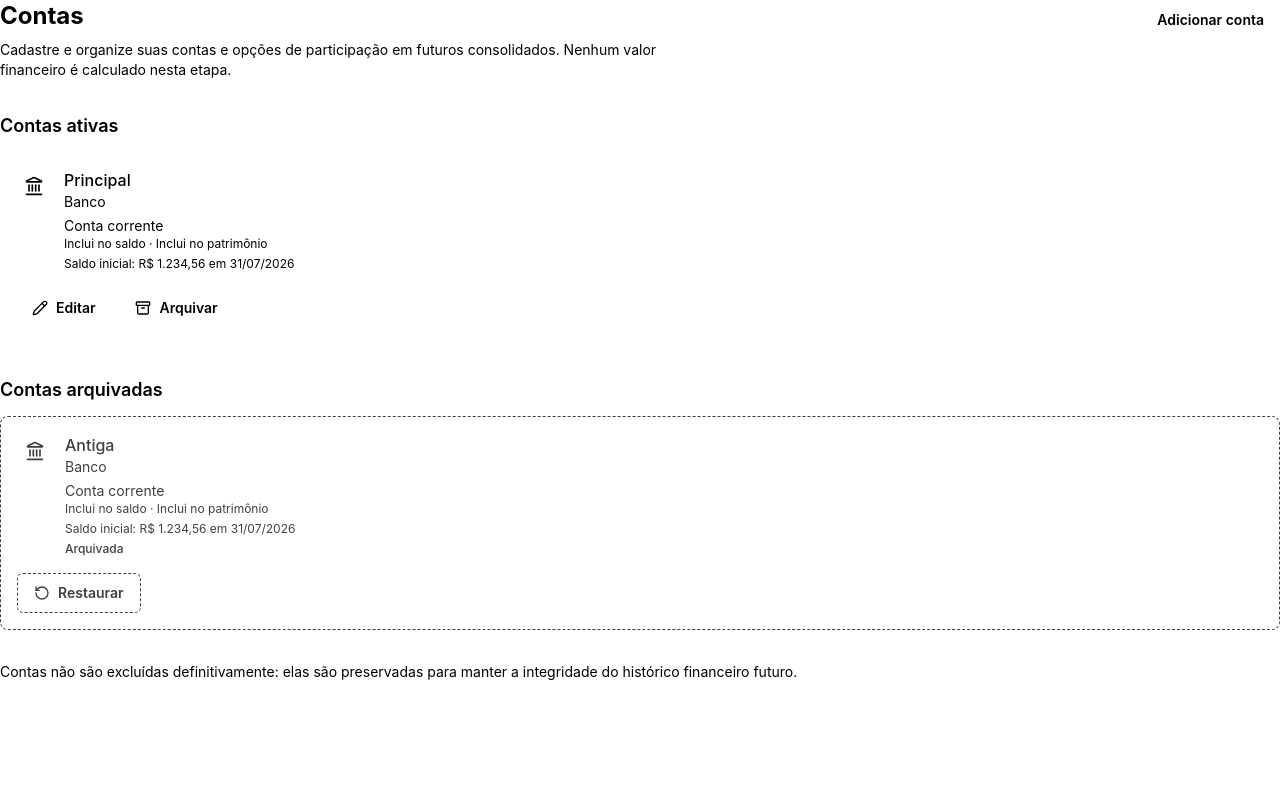
Test: AccountsPage › aplica defaults por tipo sem sobrescrever opção personalizada
The width and height of the screenshot is (1280, 800).
Click the button "Adicionar conta".
click(1211, 20)  # box [1141,0,1279,40]
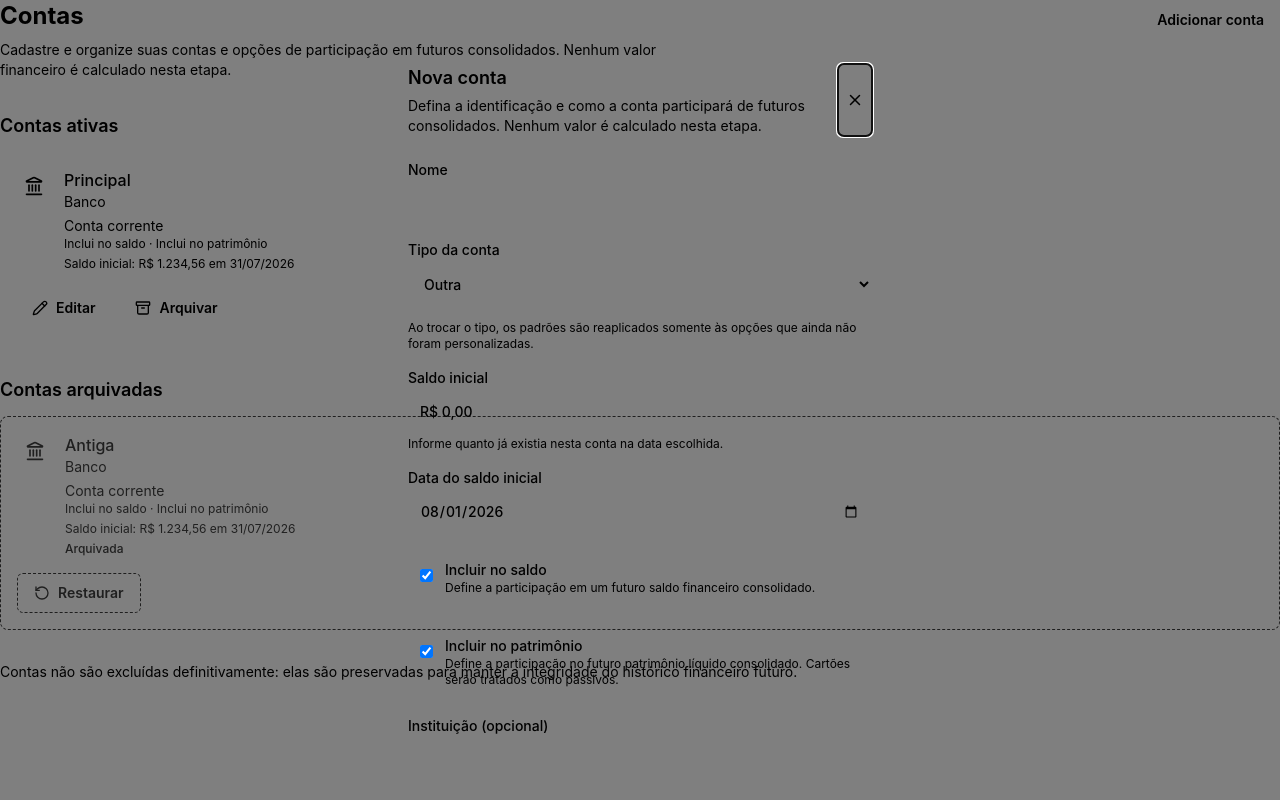
expect the checkbox labelled "Incluir no saldo" is checked: met, box [420,569,433,582]
expect the checkbox labelled "Incluir no patrimônio" is checked: met, box [420,645,433,658]
Select "Cartão de crédito" in the dropdown labelled "Tipo da conta" at point(640, 284), box [408,264,872,304]
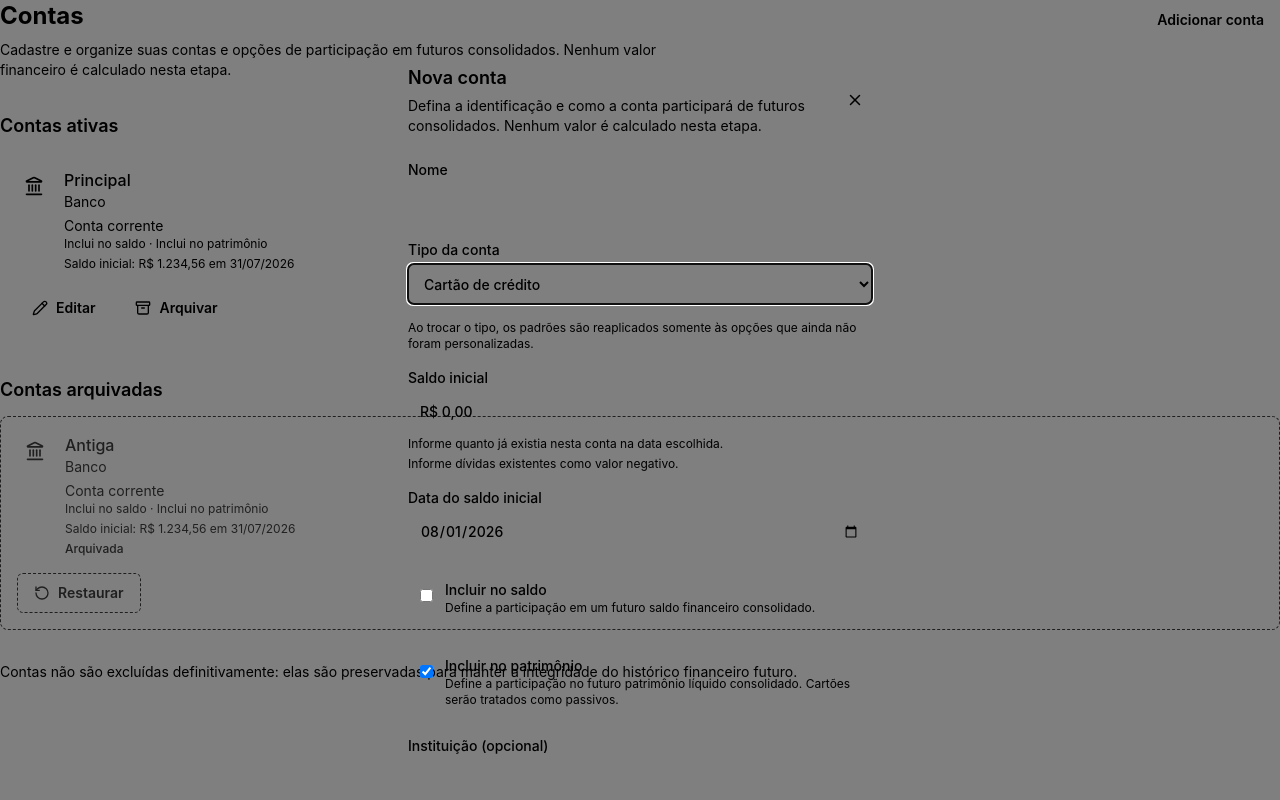
expect the checkbox labelled "Incluir no patrimônio" is checked: met
expect the checkbox labelled "Incluir no saldo" is not checked: met, box [420,589,433,602]
Click the checkbox labelled "Incluir no patrimônio".
click(426, 672)  # box [420,665,433,678]
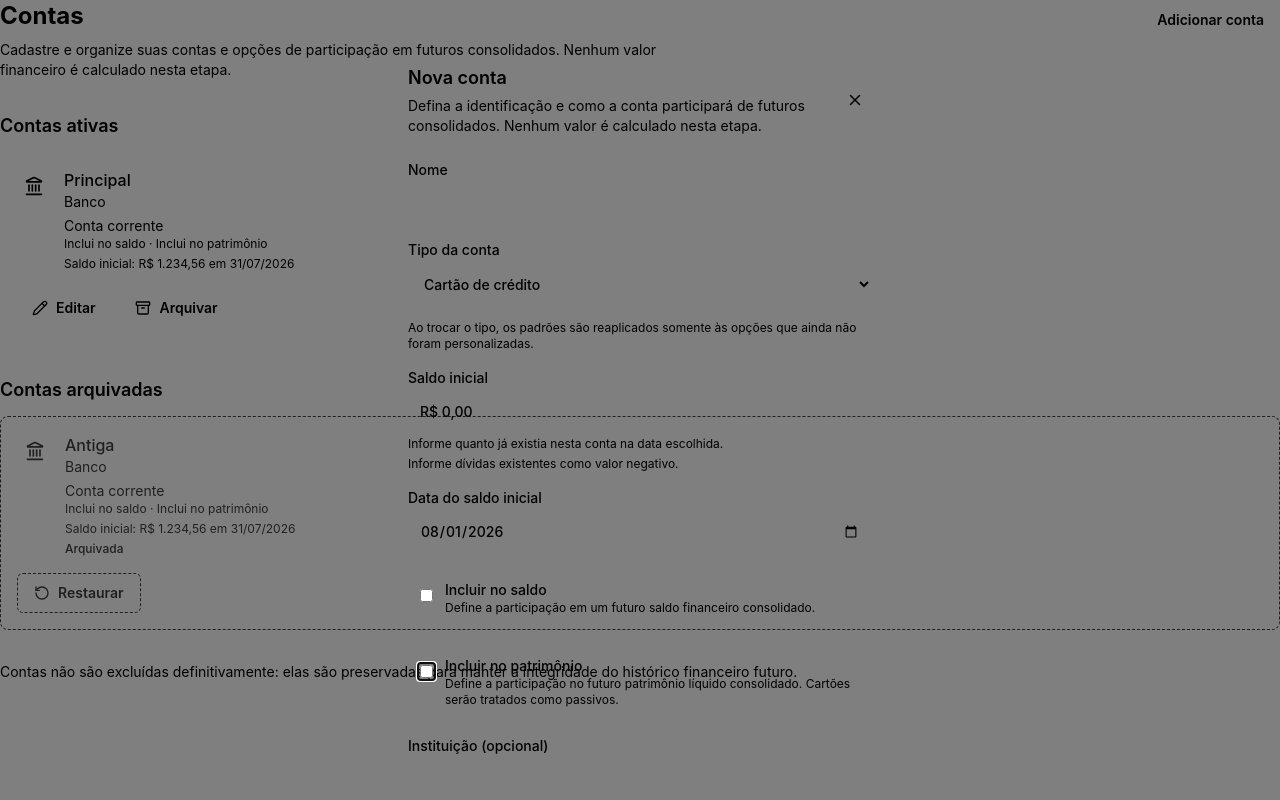
Select "Conta corrente" in the dropdown labelled "Tipo da conta" at point(640, 284), box [408,264,872,304]
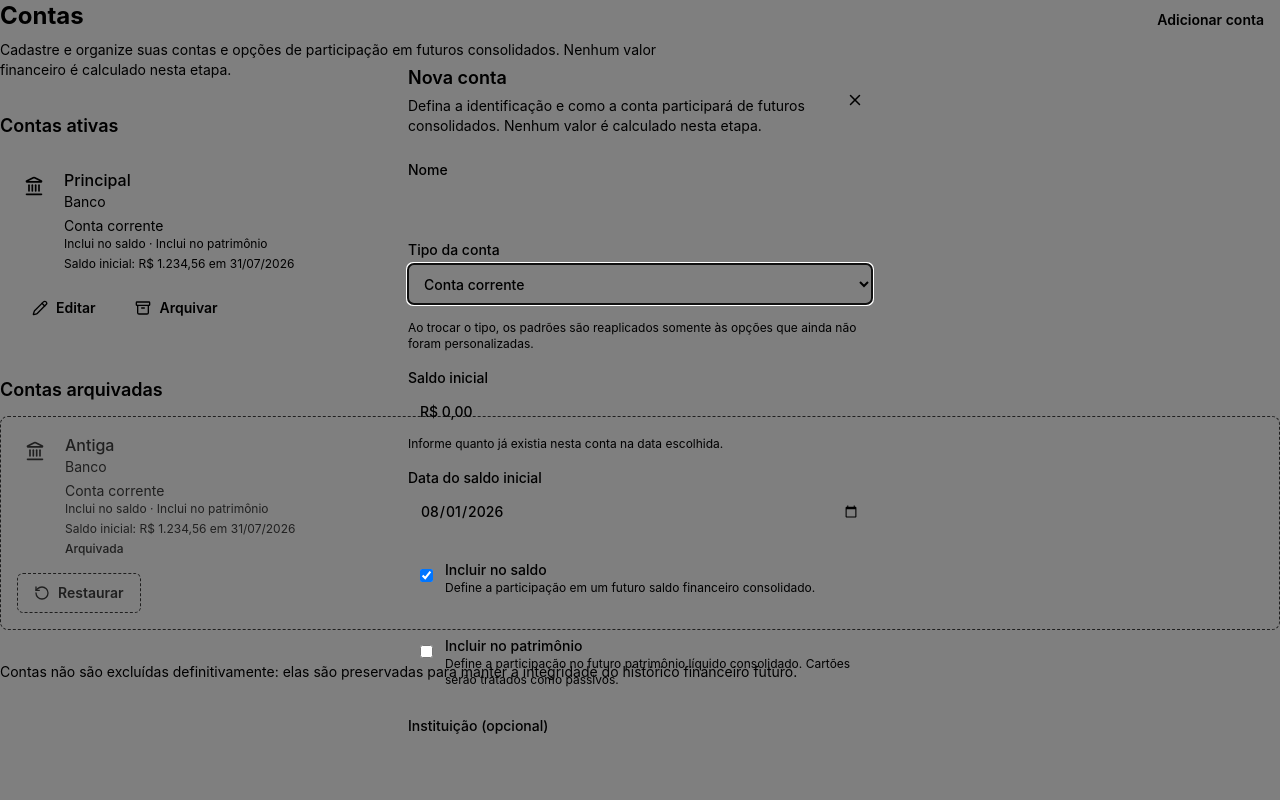
expect the checkbox labelled "Incluir no patrimônio" is not checked: met, box [420,645,433,658]
expect the checkbox labelled "Incluir no saldo" is checked: met, box [420,569,433,582]
